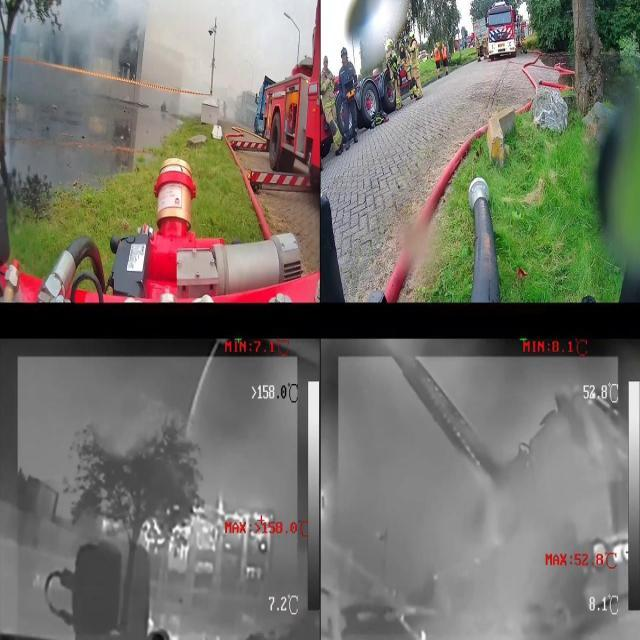Fire: (95, 55, 104, 67)
Smoke: (27, 0, 149, 64)
